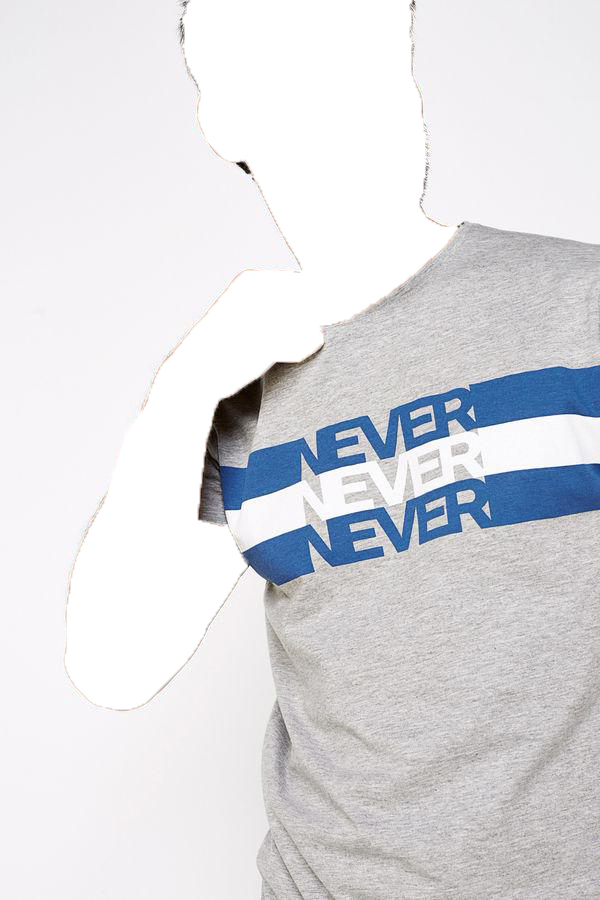teeshirt: (171, 221, 600, 896)
